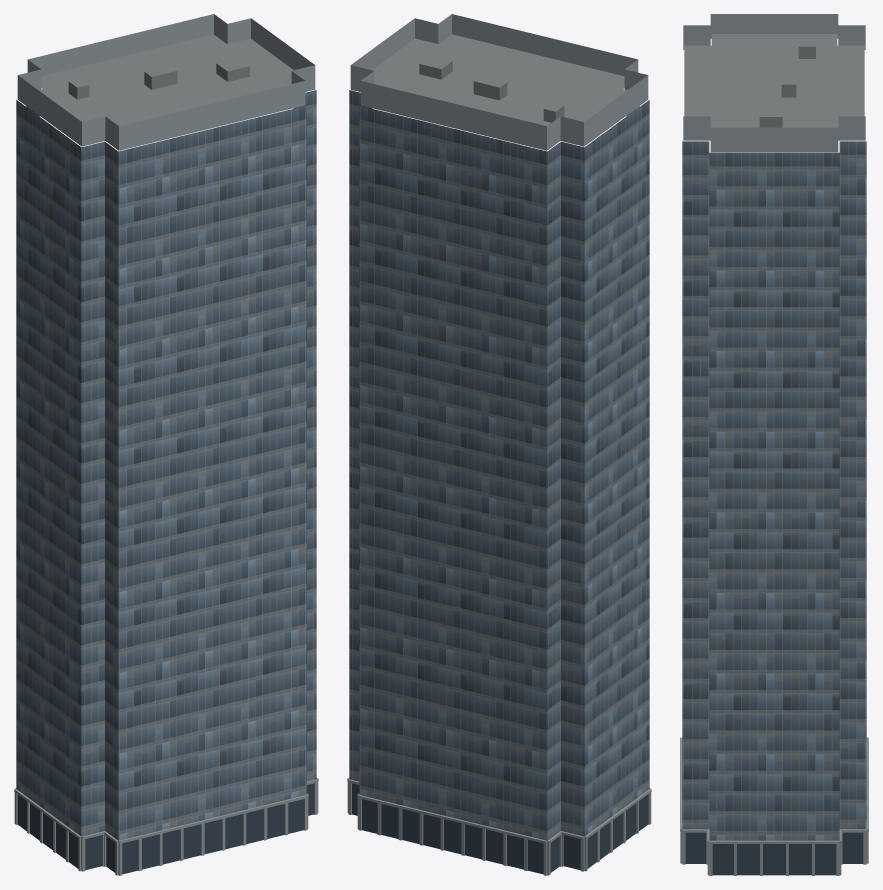
Rendered from amazon_day1.glb.
3 views of the same model, side by side, from view 1: azimuth 30°, elevation 25°; view 2: azimuth 150°, elevation 25°; view 3: azimuth 270°, elevation 25° (orthographic).
Visible parts, largest first — view 1: amazon_day1; view 2: amazon_day1; view 3: amazon_day1.
Part boxes in pixels (left/top/right/bottom): amazon_day1: left=14, top=14, right=318, bottom=875; amazon_day1: left=347, top=14, right=651, bottom=875; amazon_day1: left=680, top=14, right=868, bottom=875.
Size of the model in its own units: 50.81 by 152 by 34.79.
2 materials, 2 textured.
